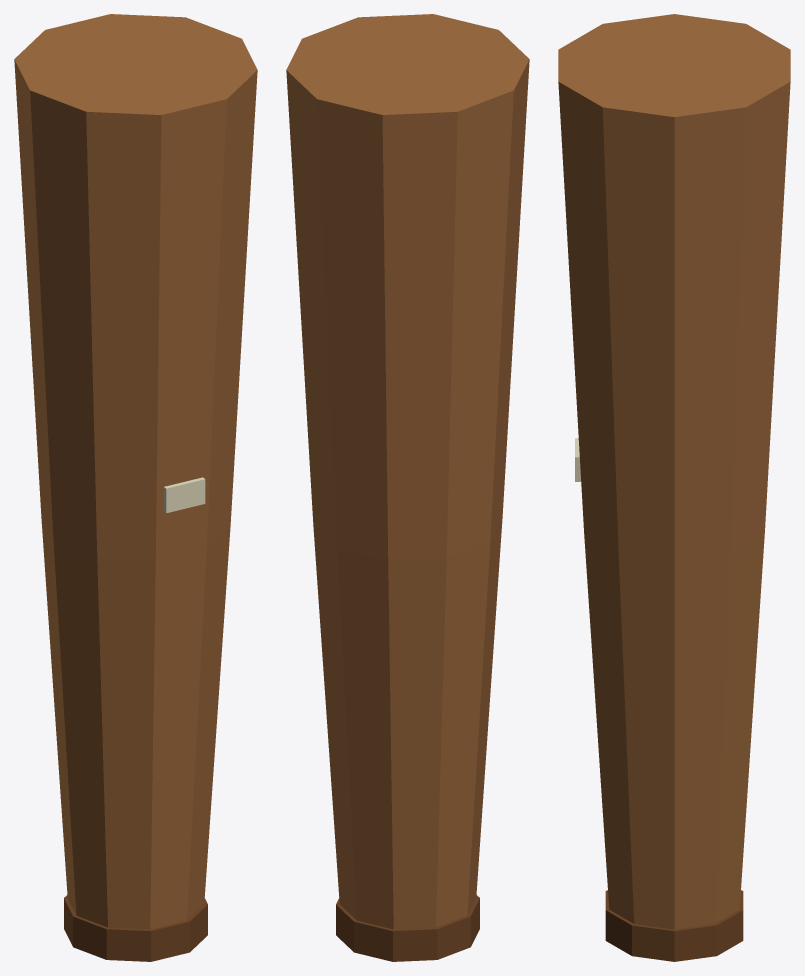
File: gear_leather_chaps_leg_r.glb
3 views of the same model, side by side, from view 1: azimuth 30°, elevation 25°; view 2: azimuth 150°, elevation 25°; view 3: azimuth 270°, elevation 25° (orthographic).
Visible parts, largest first — view 1: gear_leather_chaps_leg_r; view 2: gear_leather_chaps_leg_r; view 3: gear_leather_chaps_leg_r.
Boxes of the visible parts, left/top/right/bottom form: gear_leather_chaps_leg_r: left=14, top=14, right=257, bottom=961; gear_leather_chaps_leg_r: left=286, top=14, right=529, bottom=961; gear_leather_chaps_leg_r: left=558, top=14, right=790, bottom=961.
Size of the model in its own units: 0.216 by 0.845 by 0.2054.
